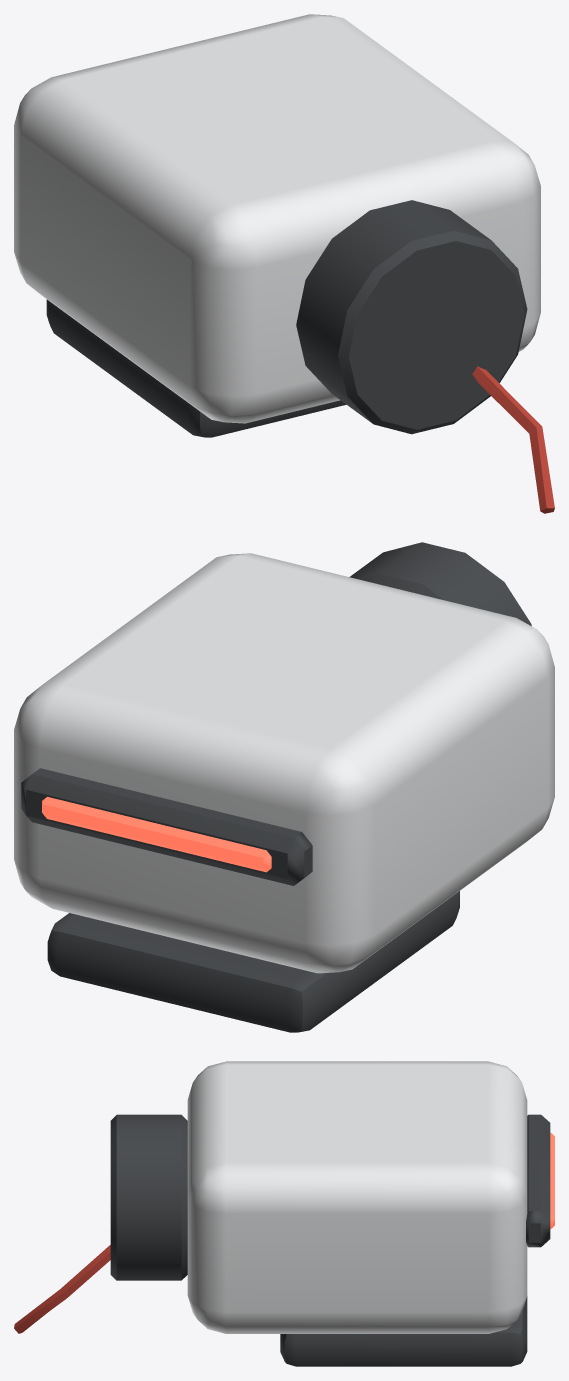
The model's file is hound_head.glb.
3 views of the same model, one above another, from view 1: azimuth 30°, elevation 25°; view 2: azimuth 150°, elevation 25°; view 3: azimuth 270°, elevation 25° (orthographic). The views are drawn at different scales.
Visible parts, largest first — view 1: body; view 2: body; view 3: body.
Part boxes in pixels (bbox=[...]): body: bbox=[14, 14, 554, 513]; body: bbox=[14, 542, 554, 1032]; body: bbox=[14, 1061, 554, 1366].
Size of the model in its own units: 0.2 by 0.15 by 0.3506.
